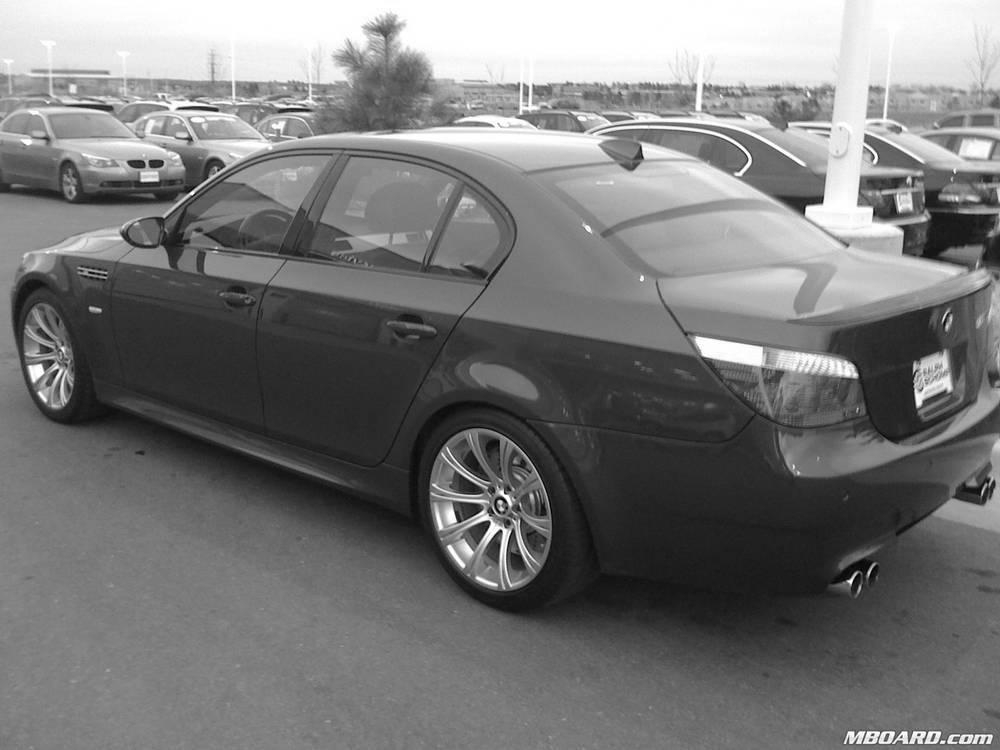car: (14, 121, 999, 610)
